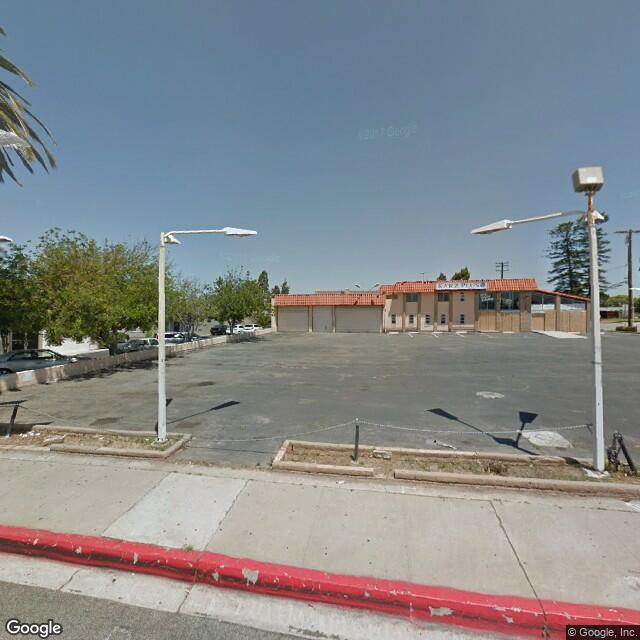litter: (21, 426, 40, 439), (334, 478, 347, 488)
